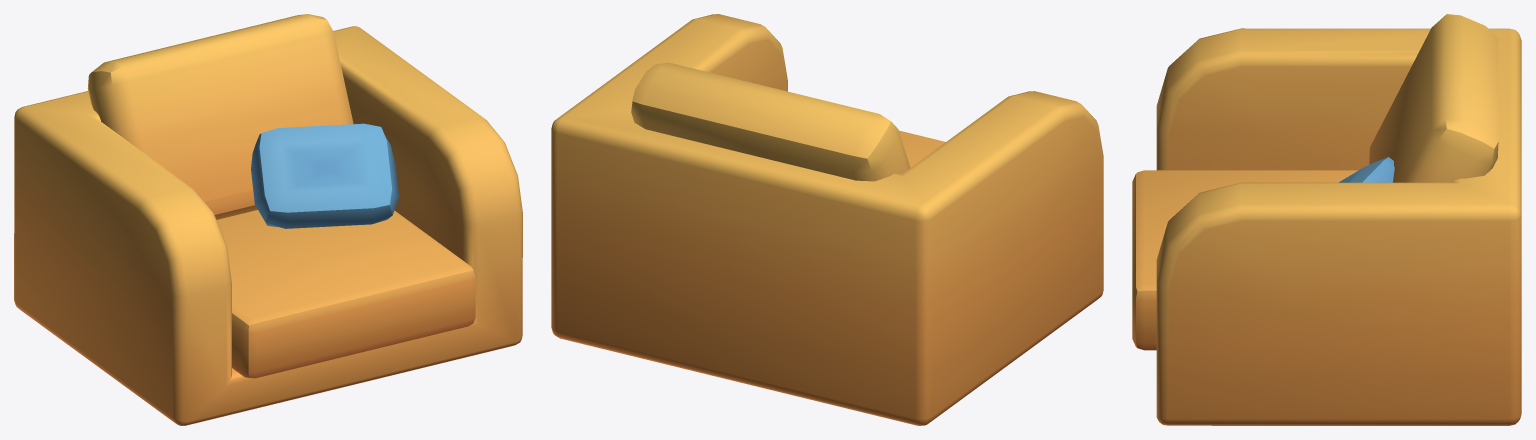
Rendered from kkf.armchair_pillows.glb.
The picture shows the model from 3 angles, left to right: view 1: azimuth 30°, elevation 25°; view 2: azimuth 150°, elevation 25°; view 3: azimuth 270°, elevation 25°; orthographic projection. The views are drawn at different scales.
Visible parts, largest first — view 1: armchair_pillows; view 2: armchair_pillows; view 3: armchair_pillows.
Boxes of the visible parts, left/top/right/bottom form: armchair_pillows: left=14, top=14, right=522, bottom=425; armchair_pillows: left=551, top=14, right=1103, bottom=425; armchair_pillows: left=1132, top=14, right=1521, bottom=425.
Bounding box in the file's own units: 1.29 × 0.8757 × 1.14.
Materials: 1 (1 with a texture image).
